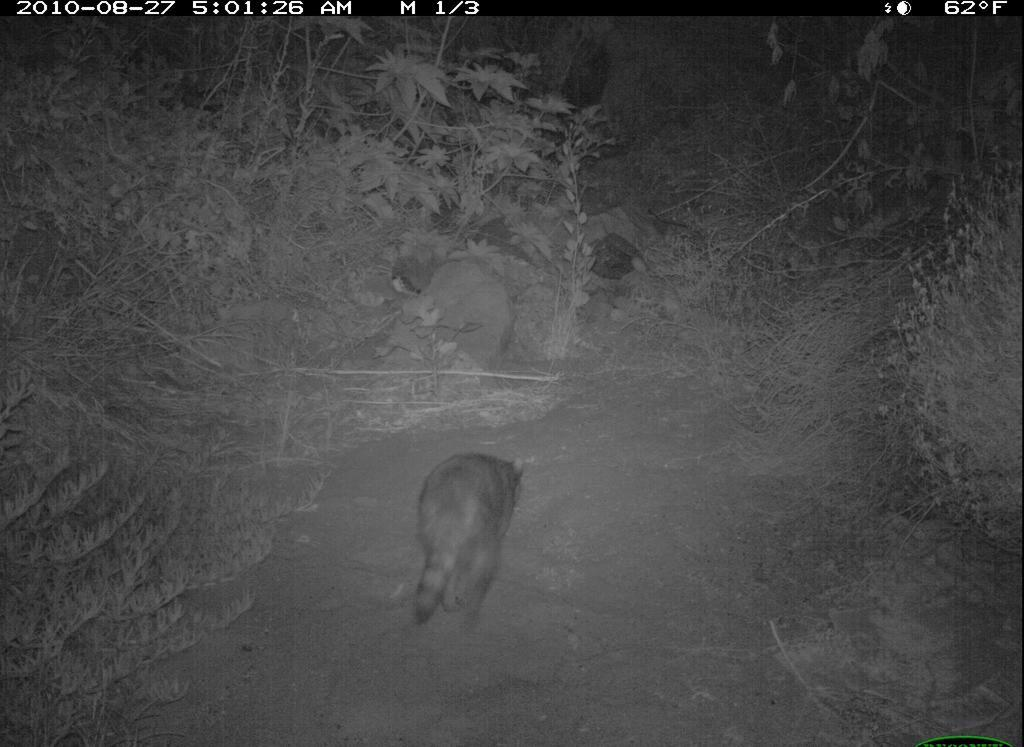raccoon: (396, 438, 541, 643)
